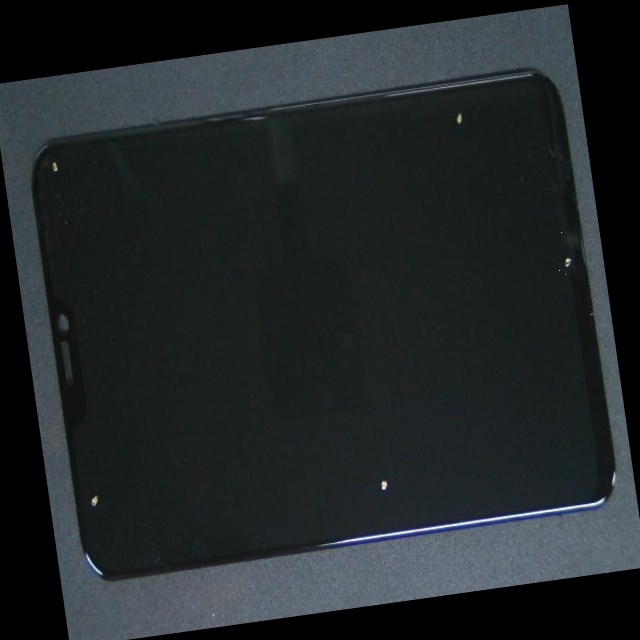stain: (183, 257, 545, 626), (277, 87, 617, 398), (218, 37, 589, 208), (45, 255, 130, 640), (18, 129, 72, 240)
